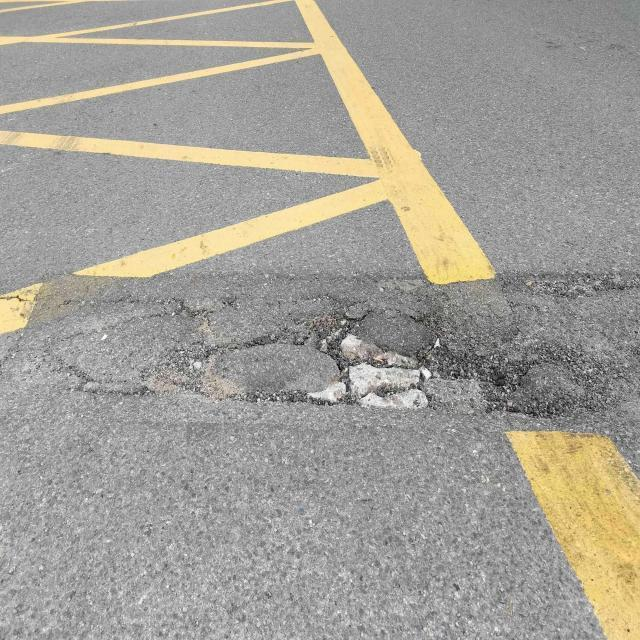Pothole: (11, 269, 638, 424)
